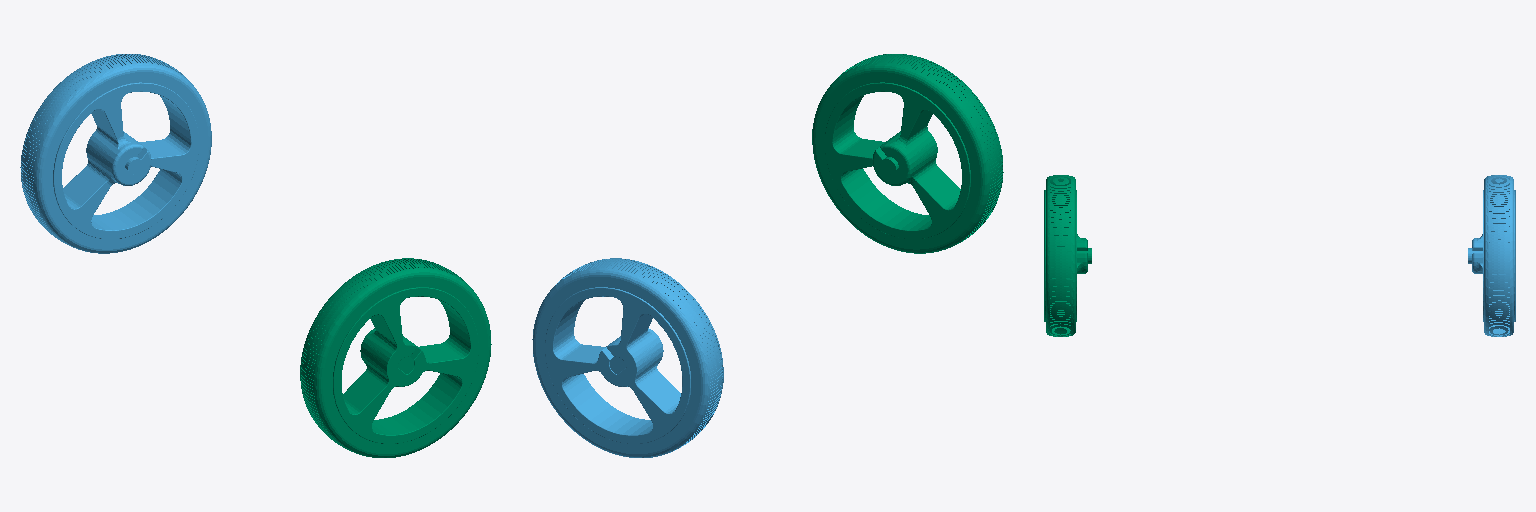
URDF robot description (doogie_description):
<?xml version="1.0" encoding="utf-8"?>
<!-- This URDF was automatically created by SolidWorks to URDF Exporter! Originally created by [author] ([email redacted]) 
     Commit Version: 1.5.0-0-g9aa0fdb  Build Version: 1.5.7004.21443
     For more information, please see http://wiki.ros.org/sw_urdf_exporter -->
<robot
  name="doogie_description">
  <link
    name="base_link">
    <inertial>
      <origin
        xyz="0.00364841706787565 0.000200795156795612 -0.0028576829900693"
        rpy="0 0 0" />
      <mass
        value="0.101412793154895" />
      <inertia
        ixx="3.65827249023902E-05"
        ixy="1.02949641372655E-08"
        ixz="-6.80731274995837E-10"
        iyy="2.86729242215599E-05"
        iyz="2.82656645945481E-09"
        izz="6.3885371646178E-05" />
    </inertial>
    <visual>
      <origin
        xyz="0 0 0"
        rpy="0 0 0" />
      <geometry>
        <mesh
          filename="package://doogie_description/meshes/collada/base_link_v3.dae" />
      </geometry>
      <material
        name="">
      </material>
    </visual>
    <collision>
      <origin
        xyz="0 0 0"
        rpy="0 0 0" />
      <geometry>
        <mesh
          filename="package://doogie_description/meshes/collada/base_link_v3.dae" />
      </geometry>
    </collision>
  </link>
  <link
    name="left_wheel">
    <inertial>
      <origin
        xyz="-0.0033666 -9.9865E-06 -1.0075E-05"
        rpy="0 0 0" />
      <mass
        value="0.0029432" />
      <inertia
        ixx="4.5609E-07"
        ixy="-2.9741E-11"
        ixz="-2.9949E-11"
        iyy="2.3839E-07"
        iyz="7.5302E-11"
        izz="2.3834E-07" />
    </inertial>
    <visual>
      <origin
        xyz="0 0 0"
        rpy="0 0 0" />
      <geometry>
        <mesh
          filename="package://doogie_description/meshes/stl/left_wheel.STL" />
      </geometry>
      <material
        name="">
      </material>
    </visual>
    <collision>
      <origin
        xyz="0 0 0"
        rpy="0 0 0" />
      <geometry>
        <mesh
          filename="package://doogie_description/meshes/stl/left_wheel.STL" />
      </geometry>
    </collision>
  </link>
  <joint
    name="left_wheel_joint"
    type="continuous">
    <origin
      xyz="0.00302 0.0464 -0.00444"
      rpy="1.5708 0 1.5708" />
    <parent
      link="base_link" />
    <child
      link="left_wheel" />
    <axis
      xyz="1 0 0" />
    <safety_controller
      k_velocity="0" />
  </joint>
  <link
    name="right_wheel">
    <inertial>
      <origin
        xyz="0.0033666 -9.9834E-06 -1.0078E-05"
        rpy="0 0 0" />
      <mass
        value="0.0029432" />
      <inertia
        ixx="4.5609E-07"
        ixy="2.9676E-11"
        ixz="3.0014E-11"
        iyy="2.3834E-07"
        iyz="7.4884E-11"
        izz="2.3839E-07" />
    </inertial>
    <visual>
      <origin
        xyz="0 0 0"
        rpy="0 0 0" />
      <geometry>
        <mesh
          filename="package://doogie_description/meshes/stl/right_wheel.STL" />
      </geometry>
      <material
        name="">
      </material>
    </visual>
    <collision>
      <origin
        xyz="0 0 0"
        rpy="0 0 0" />
      <geometry>
        <mesh
          filename="package://doogie_description/meshes/stl/right_wheel.STL" />
      </geometry>
    </collision>
  </link>
  <joint
    name="right_wheel_joint"
    type="continuous">
    <origin
      xyz="0.00302 -0.0464 -0.00444"
      rpy="1.5708 0 1.5708" />
    <parent
      link="base_link" />
    <child
      link="right_wheel" />
    <axis
      xyz="1 0 0" />
    <safety_controller
      k_velocity="0" />
  </joint>
</robot>

--- Facts derived from the render (not from the file) ---
Views: 3 orthographic renders of the robot side by side, from view 1: azimuth 30°, elevation 25°; view 2: azimuth 150°, elevation 25°; view 3: azimuth 270°, elevation 25°.
Model doogie_description with 3 links and 2 joints (2 continuous), rooted at base_link, posed all joints at 0.
Visible links, largest first — view 1: right_wheel, left_wheel; view 2: left_wheel, right_wheel; view 3: left_wheel, right_wheel.
Boxes of the visible links, x1=… form: right_wheel: x1=300, y1=258, x2=491, y2=457; left_wheel: x1=20, y1=54, x2=211, y2=253; left_wheel: x1=532, y1=258, x2=723, y2=457; right_wheel: x1=812, y1=54, x2=1003, y2=253; left_wheel: x1=1468, y1=175, x2=1515, y2=336; right_wheel: x1=1044, y1=175, x2=1091, y2=336.
Bounding box of the posed robot: 0.032 × 0.0928 × 0.032 m (x, y, z).
2 mesh visuals loaded from 3 distinct referenced files (2 binary STL); not drawn: 1 (reference not matched to a file when rendering).
